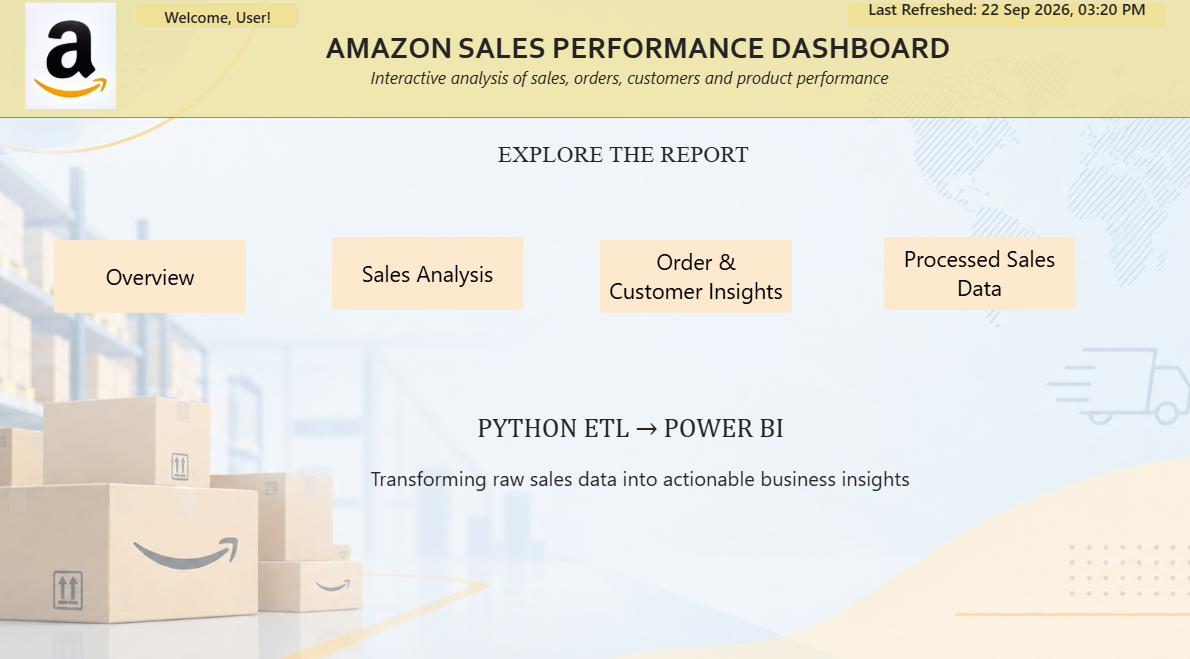

This screenshot's page, from the dashboard's own definition file:
{"tool":"powerbi","page":{"name":"Home","canvas":[1920,1080],"ordinal":0},"visuals":[{"type":"shape","box":[0,0,1920.7,200.4],"z":0},{"type":"textbox","box":[532.1,59.6,1071.3,78.7],"z":1000},{"type":"image","box":[0,16.7,252.9,169.4],"z":2000},{"type":"textbox","box":[603.6,116.9,999.7,42.9],"z":3000},{"type":"textbox","box":[806.4,236.2,484.3,62],"z":4000},{"type":"actionButton","box":[100,392.5,305.4,116.9],"z":5000},{"type":"actionButton","box":[542.5,390,305.4,116.9],"z":6000},{"type":"actionButton","box":[1419.6,388.9,305.4,116.9],"z":7000},{"type":"textbox","box":[773,670.4,501,81.1],"z":8000},{"type":"textbox","box":[603.6,751.6,1145.2,57.3],"z":9000},{"type":"actionButton","box":[967.5,392.5,305.4,116.9],"z":10000},{"type":"cardVisual","title":" ","fields":{"Data":["Amazon_ETL_Processed.Last Refreshed"]},"box":[1360,16.7,510.6,42.9],"z":11000},{"type":"cardVisual","fields":{"Data":["Amazon_ETL_Processed.Welcome User"]},"box":[230,16.7,261.8,42.7],"z":12000}]}

Visuals, with their boxes in screenshot pixels (x1, y1, x2, y2), scaled from the page's 1920x1080 canvas onto the 1190x659 screenshot:
shape: BBox(0, 0, 1189, 122)
textbox: BBox(330, 36, 994, 84)
image: BBox(0, 10, 157, 114)
textbox: BBox(374, 71, 994, 98)
textbox: BBox(500, 144, 800, 182)
actionButton: BBox(62, 239, 251, 311)
actionButton: BBox(336, 238, 526, 309)
actionButton: BBox(880, 237, 1069, 309)
textbox: BBox(479, 409, 790, 459)
textbox: BBox(374, 459, 1084, 494)
actionButton: BBox(600, 239, 789, 311)
" " cardVisual: BBox(843, 10, 1159, 36)
cardVisual - Amazon_ETL_Processed.Welcome User: BBox(143, 10, 305, 36)
